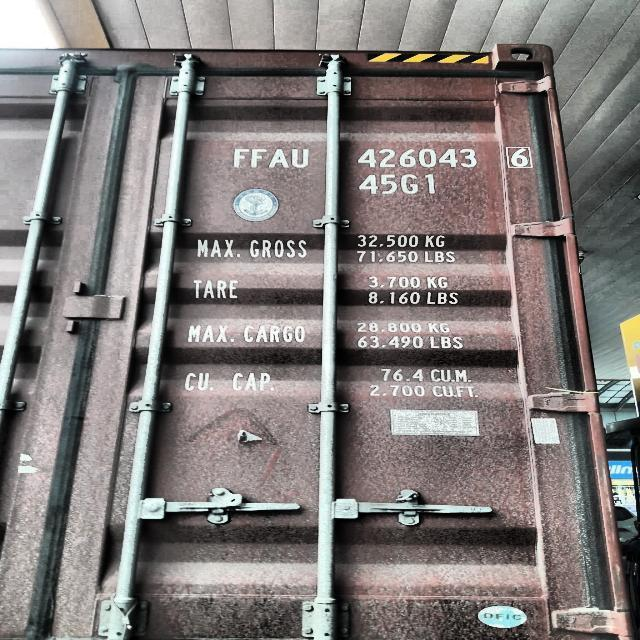ISO: (354, 174, 448, 196)
container_number: (230, 145, 531, 172)
